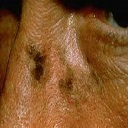Actinic: (24, 43, 46, 85), (60, 73, 78, 93)
